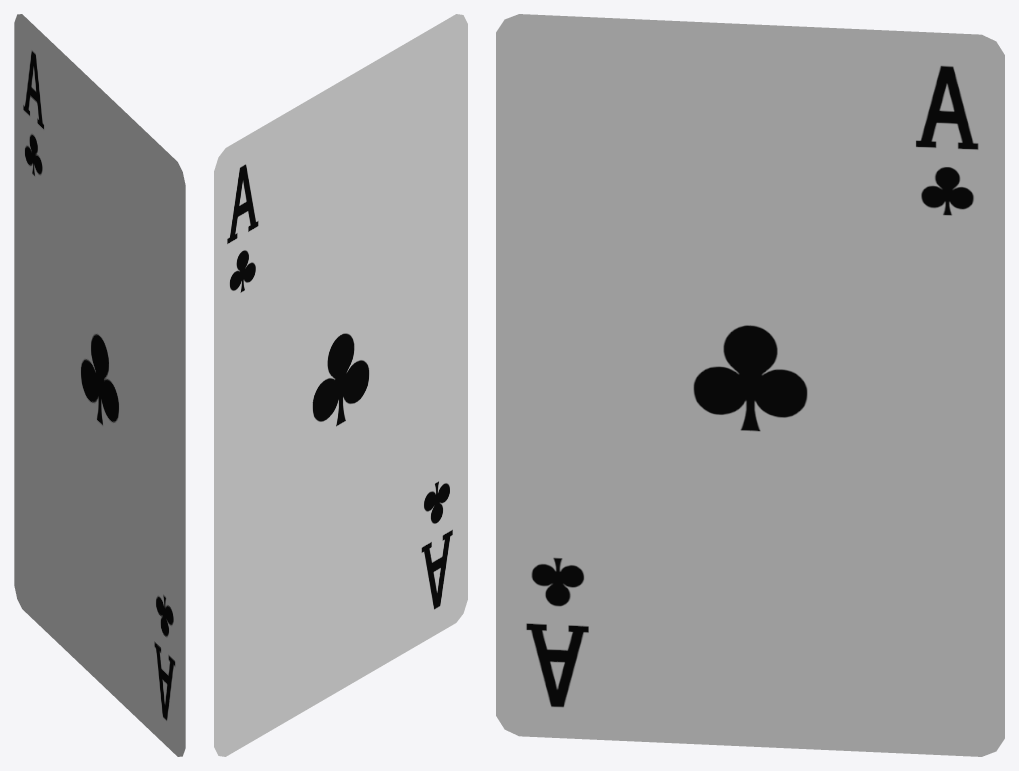
The model's file is PlayingCardAce.glb.
The picture shows the model from 3 angles, left to right: view 1: azimuth 30°, elevation 25°; view 2: azimuth 150°, elevation 25°; view 3: azimuth 270°, elevation 25°; orthographic projection. The views are drawn at different scales.
Visible parts, largest first — view 1: card; view 2: card; view 3: card.
Part boxes in pixels (x1,y1,x2,y2): card: (14, 14, 185, 756); card: (214, 14, 467, 756); card: (496, 14, 1004, 756).
Bounding box in the file's own units: 0.0357 × 0.5297 × 0.3382.
Materials: 1 (1 with a texture image).
